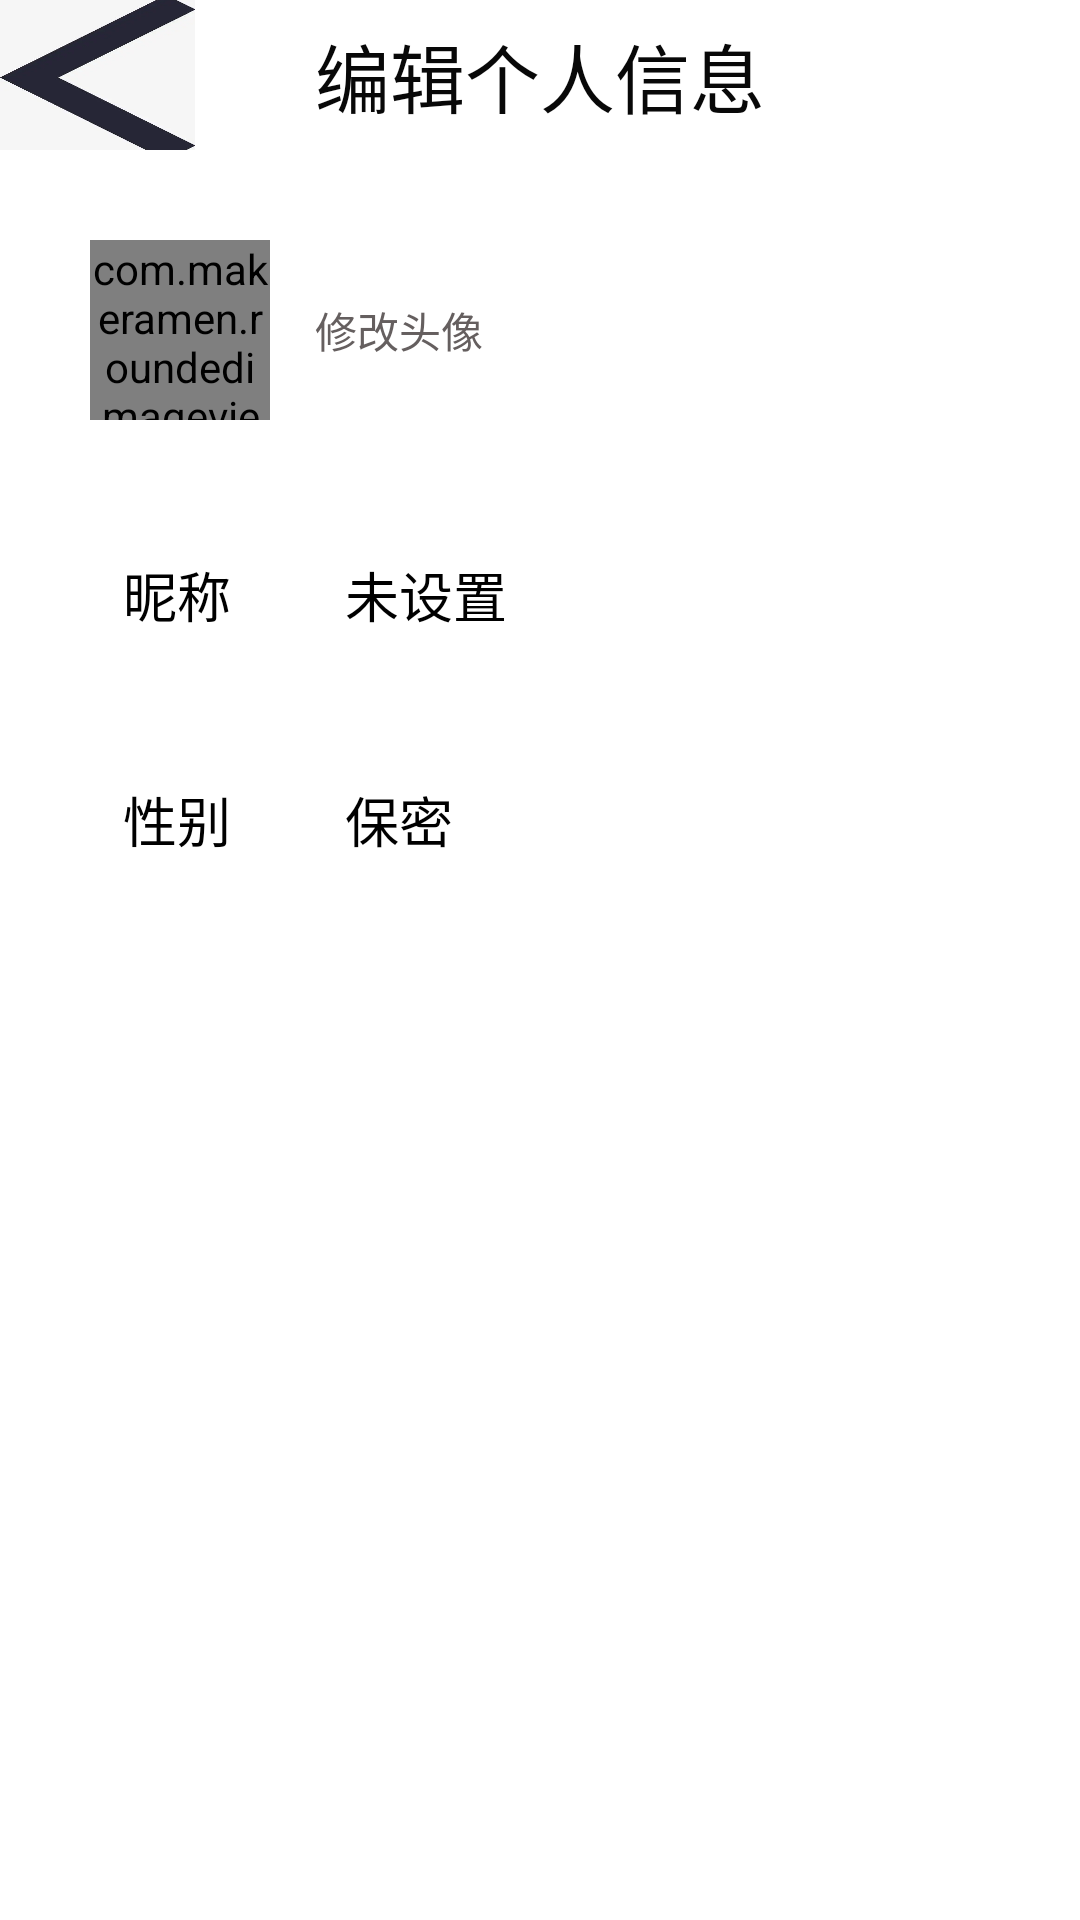

Named icons in this screenshot (1080w x 1920h) and their centers, (x=x, y=y):
is back: (x=97, y=75)
